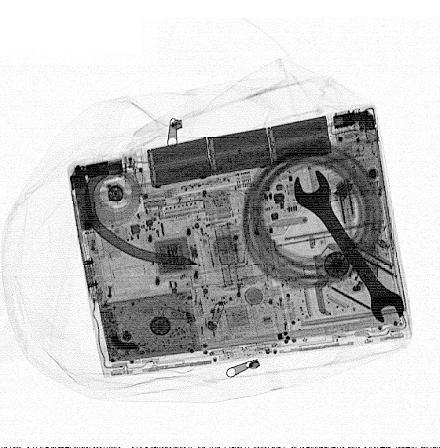Wrench: (292, 167, 405, 327)
